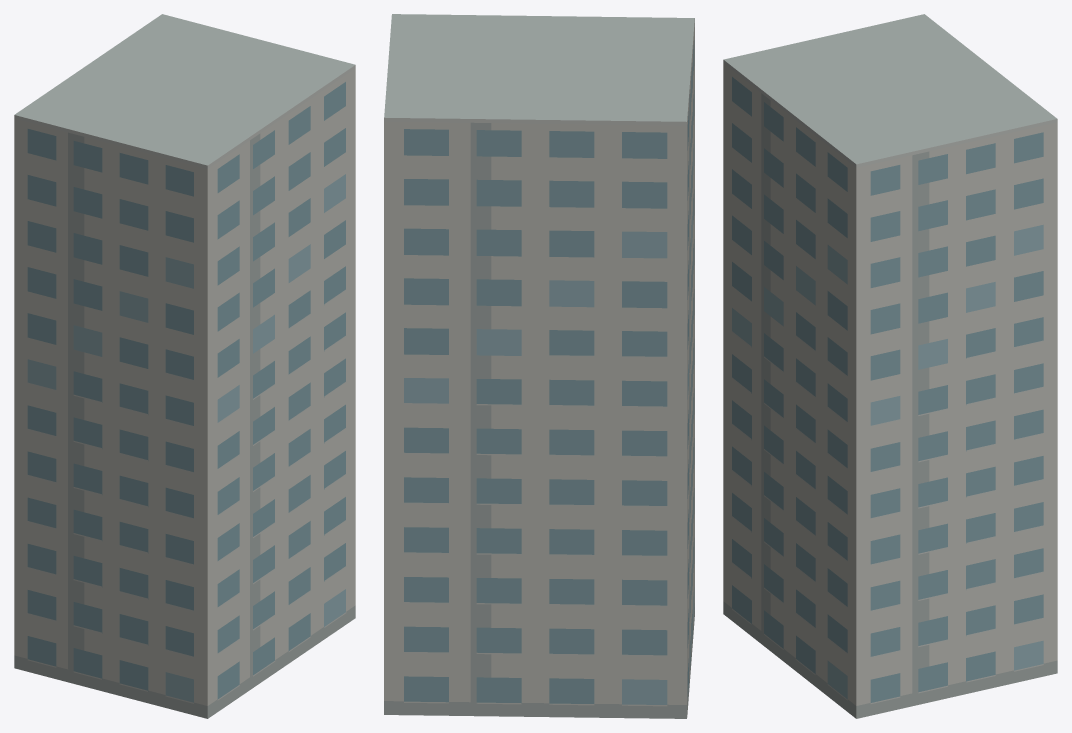
The model's file is residential-4f2ed6b2-63e1-48b6-a673-848514ea5806.glb.
The picture shows the model from 3 angles, left to right: view 1: azimuth 30°, elevation 25°; view 2: azimuth 150°, elevation 25°; view 3: azimuth 270°, elevation 25°; orthographic projection. The views are drawn at different scales.
Visible parts, largest first — view 1: residential-4f2ed6b2-63e1-48b6-a673-848514ea5806.tmp; view 2: residential-4f2ed6b2-63e1-48b6-a673-848514ea5806.tmp; view 3: residential-4f2ed6b2-63e1-48b6-a673-848514ea5806.tmp.
Boxes of the visible parts, x1,y1,x2,y2 form: residential-4f2ed6b2-63e1-48b6-a673-848514ea5806.tmp: [14, 14, 355, 718]; residential-4f2ed6b2-63e1-48b6-a673-848514ea5806.tmp: [384, 14, 694, 718]; residential-4f2ed6b2-63e1-48b6-a673-848514ea5806.tmp: [723, 14, 1057, 718].
Bounding box in the file's own units: 22.11 × 38 × 20.76.
